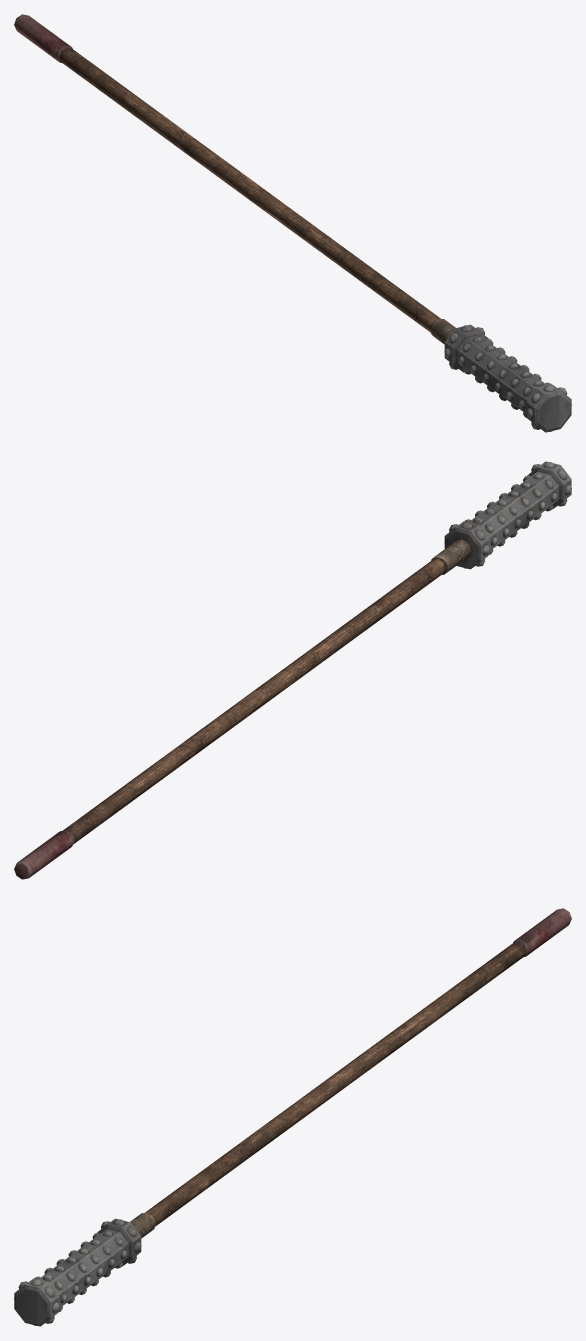
Rendered from weapon_pole_test.fbx.
3 renders of one model, top to bottom at view 1: azimuth 30°, elevation 25°; view 2: azimuth 150°, elevation 25°; view 3: azimuth 330°, elevation 25°, orthographic.
Parts seen in each view (by area): view 1: weapon_pole; view 2: weapon_pole; view 3: weapon_pole.
Boxes of the visible parts, left/top/right/bottom form: weapon_pole: left=14, top=14, right=571, bottom=432; weapon_pole: left=14, top=461, right=571, bottom=879; weapon_pole: left=14, top=908, right=571, bottom=1326.
Size of the model in its own units: 22.72 by 22.72 by 469.
Materials: 1 (1 with a texture image).
